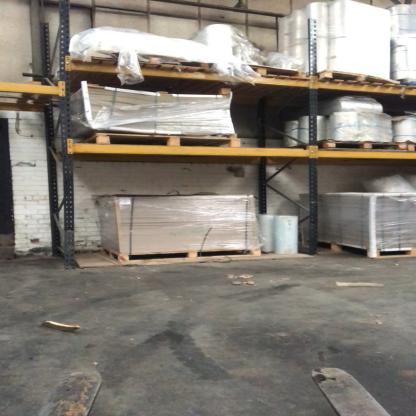vertical_damage: (63, 212, 85, 242)
